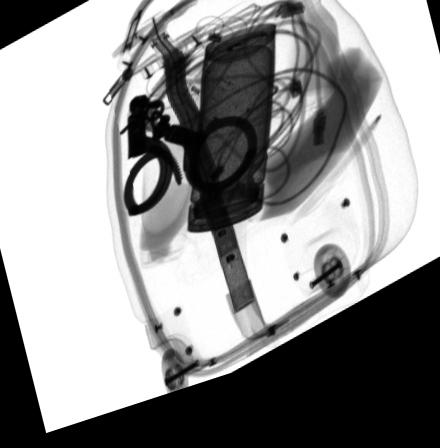HandCuffs: (118, 102, 256, 227)
